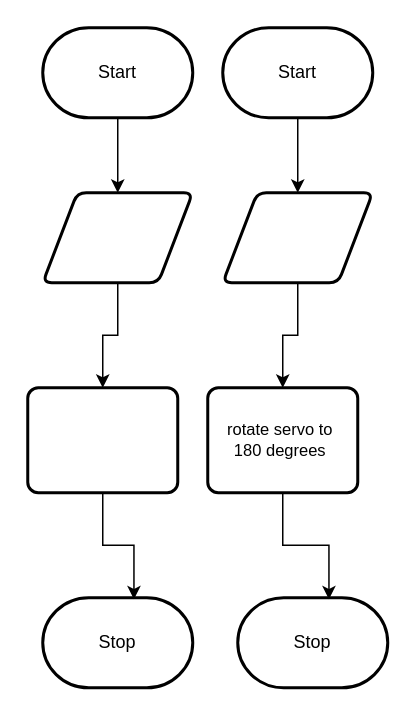
The diagram is 414 pixels wide and 714 high, and some of its shapes have lost their labels. The box of each missing label's shape, as (x1, y1, x2, y2) in pixels:
on button A pressed: (40, 190, 194, 284)
on button B pressed: (220, 190, 374, 284)
rotate servo to 30 degrees: (26, 386, 178, 494)
